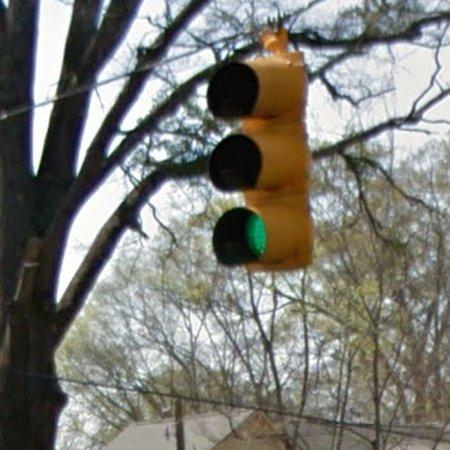traffic lights: (200, 51, 315, 271)
